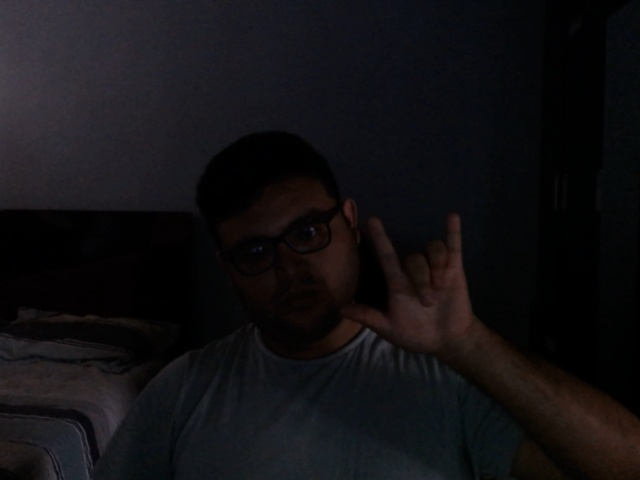I love you: (334, 207, 479, 365)
